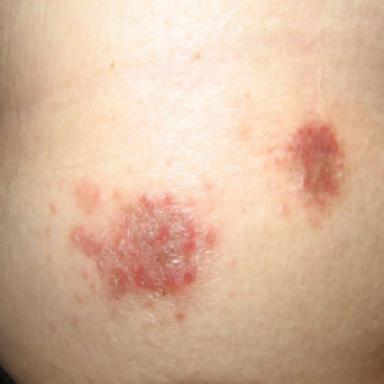eczema: (71, 193, 217, 297), (276, 121, 343, 211), (76, 180, 101, 216)
